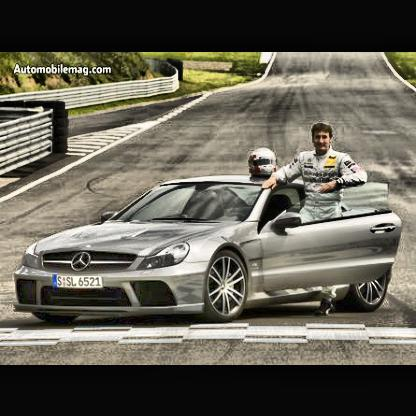Mercedes-Benz SL-Class Coupe 2009: (13, 175, 403, 324)
